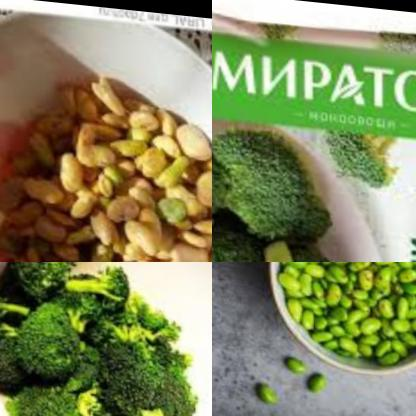beans: (0, 35, 212, 262), (269, 262, 416, 388), (252, 371, 288, 407), (306, 365, 330, 394), (284, 350, 307, 372)
broccoli: (0, 262, 196, 416), (212, 116, 345, 227), (315, 109, 403, 194), (213, 224, 326, 262)
